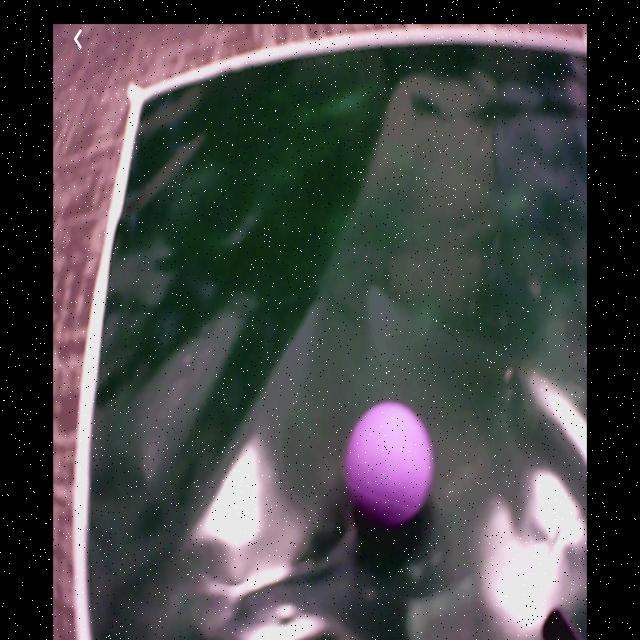ball: (346, 401, 432, 524)
